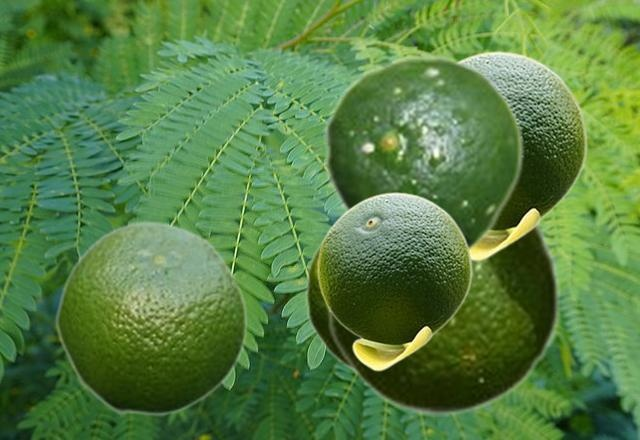calamansi: (324, 221, 561, 415), (323, 54, 524, 254), (54, 219, 247, 415), (317, 192, 471, 370), (458, 51, 586, 260), (304, 231, 352, 374)
